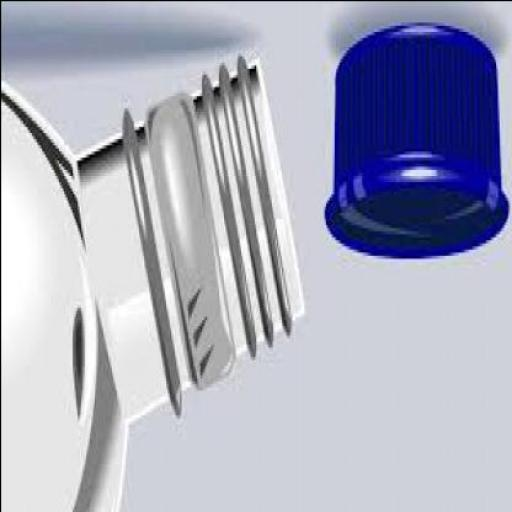plastic: (1, 62, 309, 510), (326, 21, 510, 261)
